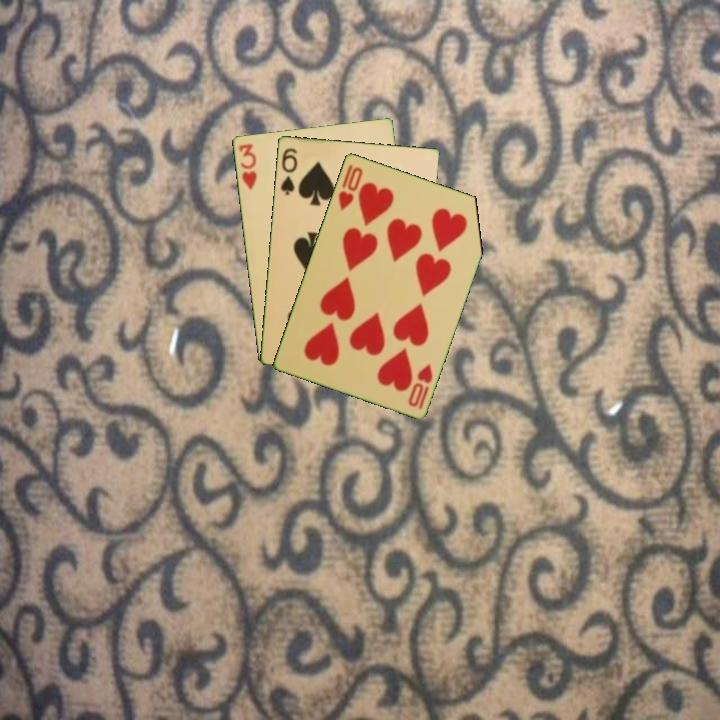10h: (334, 160, 365, 213), (404, 360, 435, 412)
3h: (235, 140, 259, 192)
6s: (277, 144, 300, 197)
